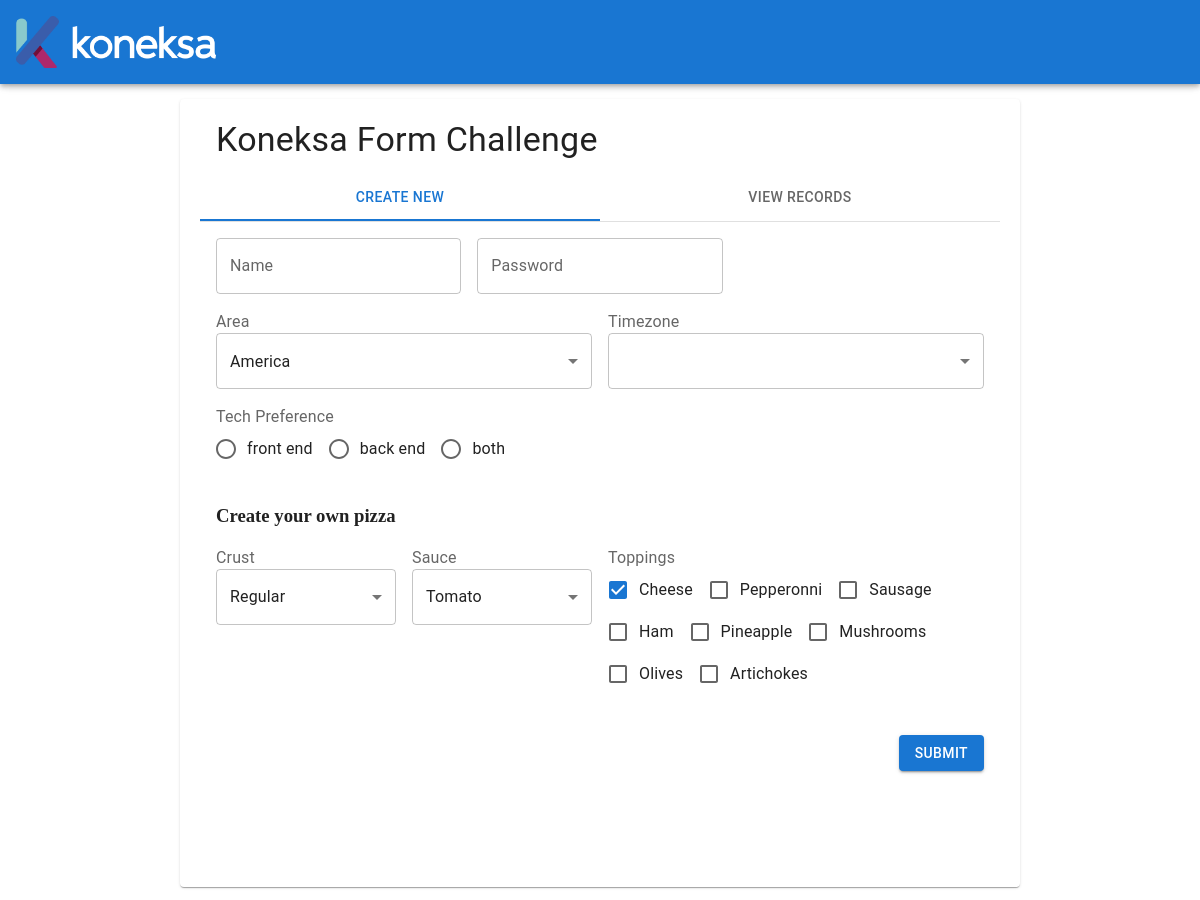
View Records Success › should display loading spinner then stubbed server data
Click the tab with test id "viewRecordsTab" at (800, 197), box x1=600 y1=173 x2=1000 y2=221
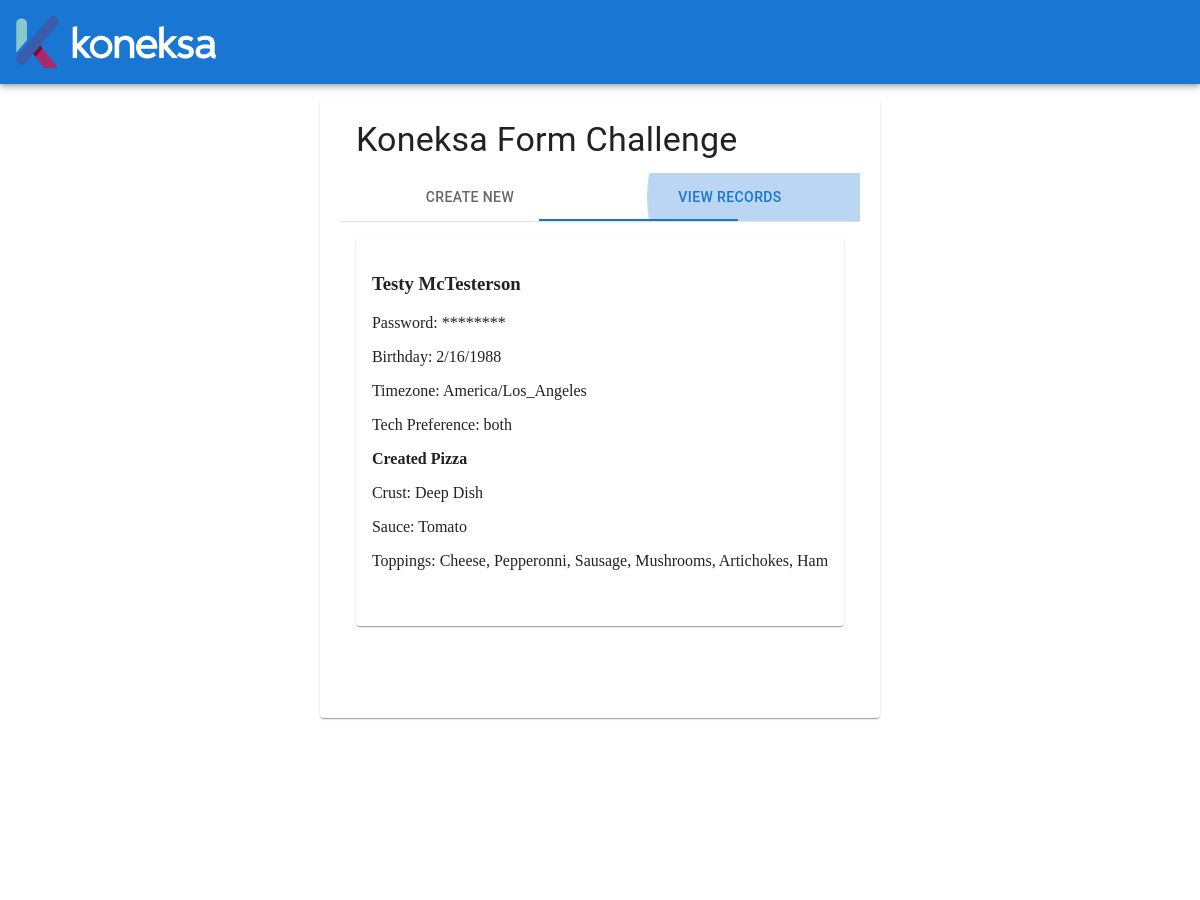
Result: the heading "Testy McTesterson" is shown at x1=372 y1=273 x2=521 y2=294
